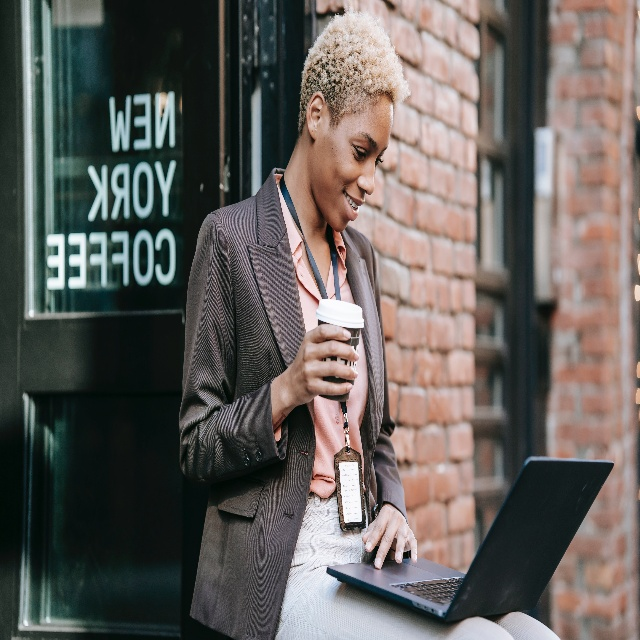Sin_guantes: (288, 323, 360, 407), (362, 505, 417, 570)
